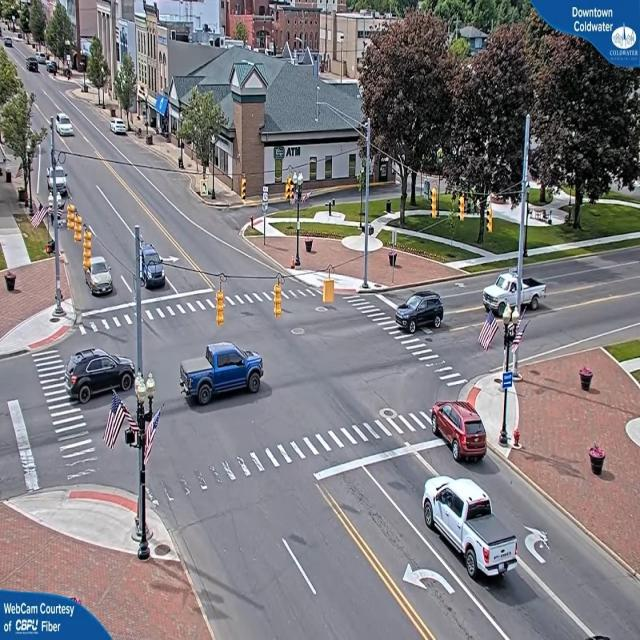car: (421, 476, 513, 584), (185, 342, 266, 406), (66, 348, 136, 402), (433, 399, 489, 464), (396, 291, 447, 331), (138, 242, 166, 289), (86, 255, 114, 297), (53, 115, 74, 138), (112, 121, 130, 138), (28, 59, 40, 72)
